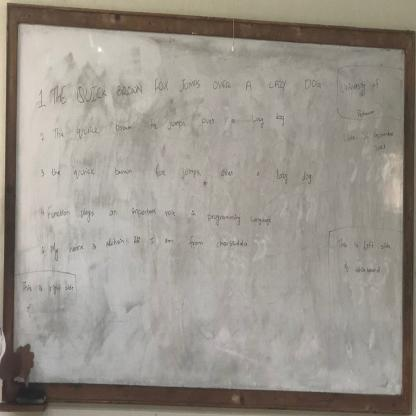Handwritten text: (49, 68, 326, 108), (44, 153, 316, 188), (46, 110, 296, 142), (43, 199, 275, 230), (49, 231, 253, 261), (17, 273, 81, 308), (332, 231, 391, 256), (337, 67, 384, 96), (337, 257, 387, 283), (354, 99, 379, 122)
Whiteboard: (5, 14, 407, 402)
